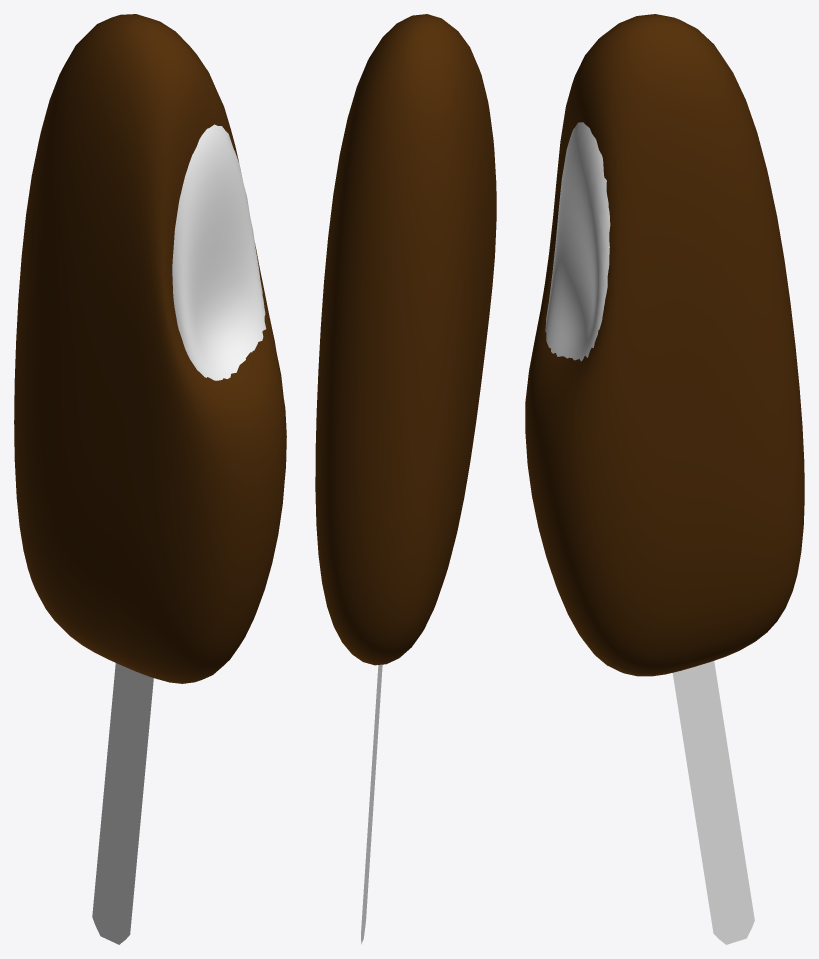
The model's file is ice_cream_chocklate.gltf.
3 views of the same model, side by side, from view 1: azimuth 30°, elevation 25°; view 2: azimuth 150°, elevation 25°; view 3: azimuth 270°, elevation 25° (orthographic). The views are drawn at different scales.
Visible parts, largest first — view 1: Cube001, Cube, Plane; view 2: Cube001, Plane; view 3: Cube001, Plane, Cube.
Part boxes in pixels (x1=…): Cube001: x1=14, y1=14, x2=286, y2=683; Cube: x1=172, y1=124, x2=266, y2=380; Plane: x1=92, y1=663, x2=153, y2=944; Cube001: x1=315, y1=14, x2=496, y2=665; Plane: x1=361, y1=664, x2=382, y2=944; Cube001: x1=525, y1=14, x2=804, y2=676; Plane: x1=672, y1=661, x2=754, y2=944; Cube: x1=545, y1=122, x2=610, y2=361.
Size of the model in its own units: 0.9851 by 4.85 by 1.34.
